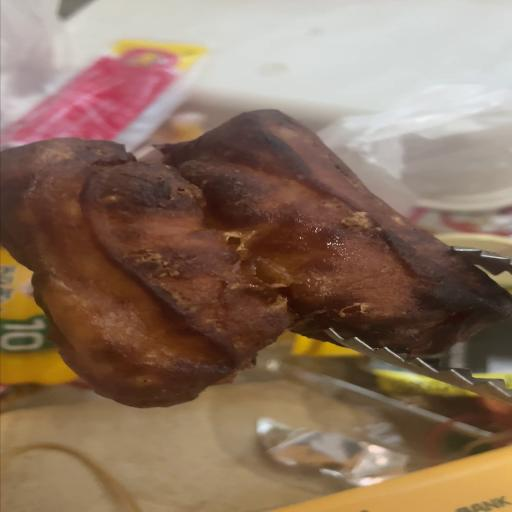street_burnt_defect: (3, 111, 509, 408)
